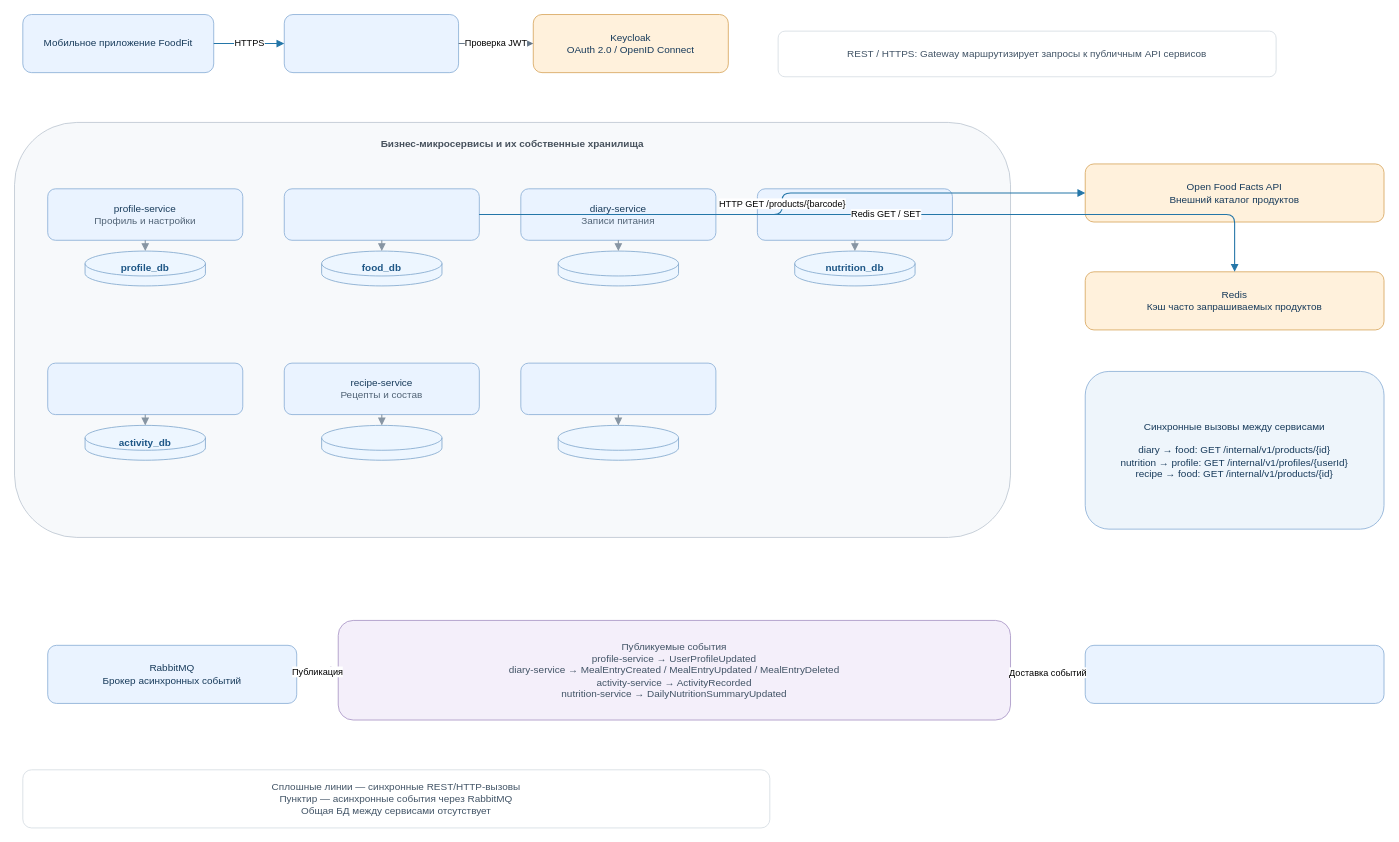
Some shapes in this 1399 by 842 pixel diagram are drawn without their labels. Here are the shapes that lost their labels. From the top down, the centre of each, then its label:
At point (371, 43): "API Gateway (Kong)".
At point (381, 214): "food-service Каталог продуктов и запасы".
At point (854, 214): "nutrition-service Нормы и сводка питания".
At point (618, 268): "diary_db".
At point (145, 388): "activity-service Физическая активность".
At point (618, 388): "recommendation-service Персональные рекомендации".
At point (381, 442): "recipe_db".
At point (618, 442): "recommendation_db".
At point (1234, 673): "recommendation-service Подписчик событий".
